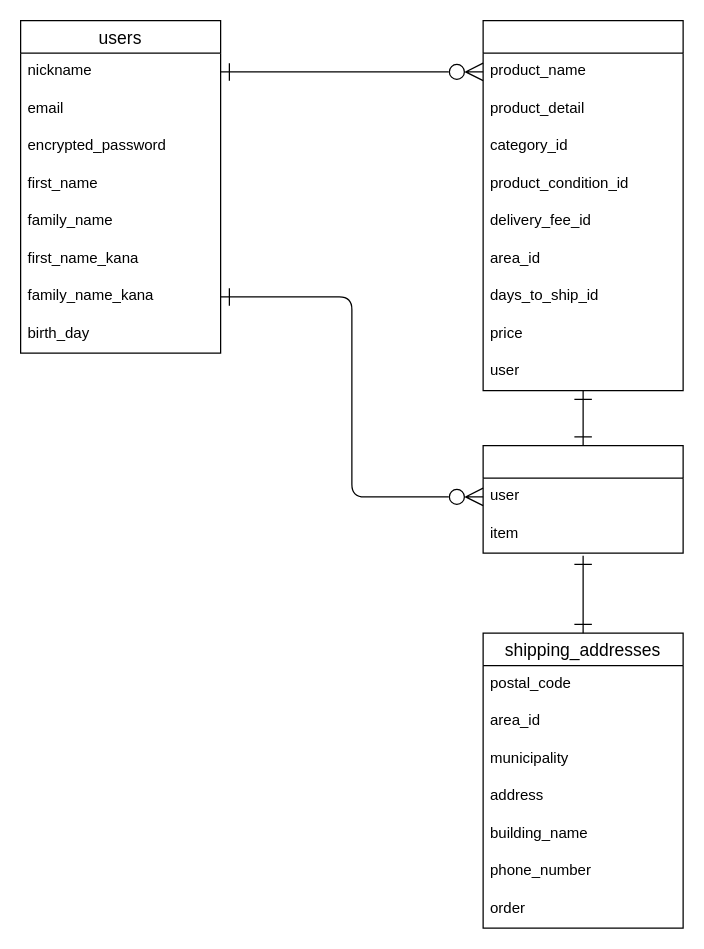
Some shapes in this 704 by 949 pixel diagram are drawn without their labels. Each missing label, with the box of its shape:
items: (482, 19, 683, 391)
orders: (482, 444, 683, 553)
